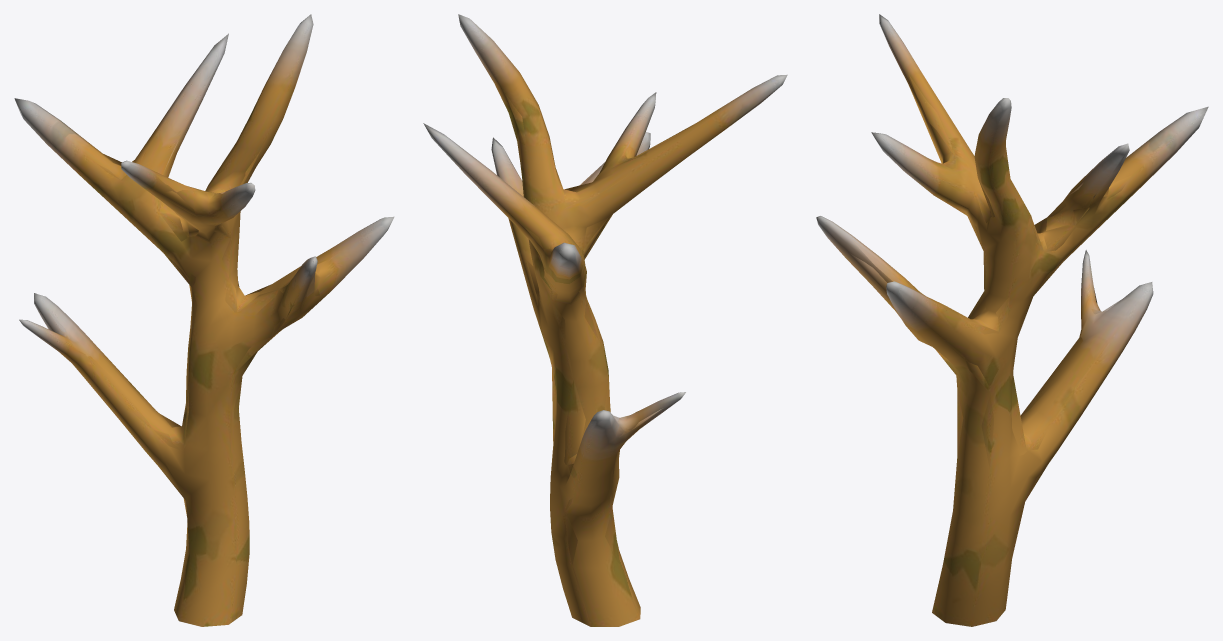
File: 32-Staghorn.fbx
3 renders of one model, left to right at view 1: azimuth 30°, elevation 25°; view 2: azimuth 150°, elevation 25°; view 3: azimuth 270°, elevation 25°, orthographic. The views are drawn at different scales.
Visible parts, largest first — view 1: 32-Staghorn_LOD00, 32-Staghorn_LOD00.001; view 2: 32-Staghorn_LOD00, 32-Staghorn_LOD00.001; view 3: 32-Staghorn_LOD00, 32-Staghorn_LOD00.001.
Boxes of the visible parts, box(x1,y1,x2,y2) form: 32-Staghorn_LOD00: box(14, 14, 394, 626); 32-Staghorn_LOD00.001: box(50, 141, 335, 620); 32-Staghorn_LOD00: box(423, 14, 787, 626); 32-Staghorn_LOD00.001: box(506, 94, 693, 622); 32-Staghorn_LOD00: box(816, 14, 1208, 626); 32-Staghorn_LOD00.001: box(817, 75, 1131, 558).
Bounding box in the file's own units: 28.27 × 53.46 × 33.07.
